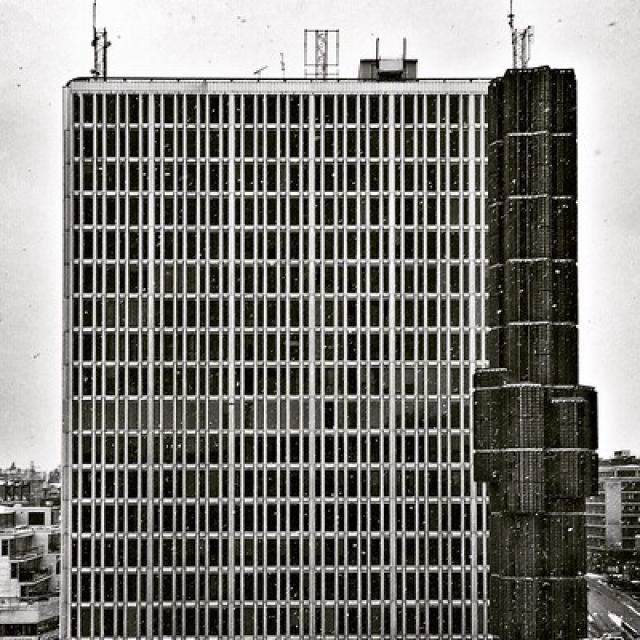building: (52, 62, 594, 639)
